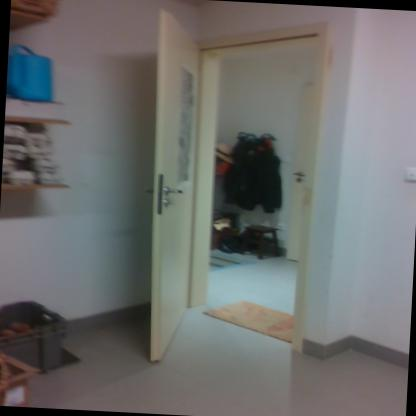semi: (113, 13, 338, 350)
